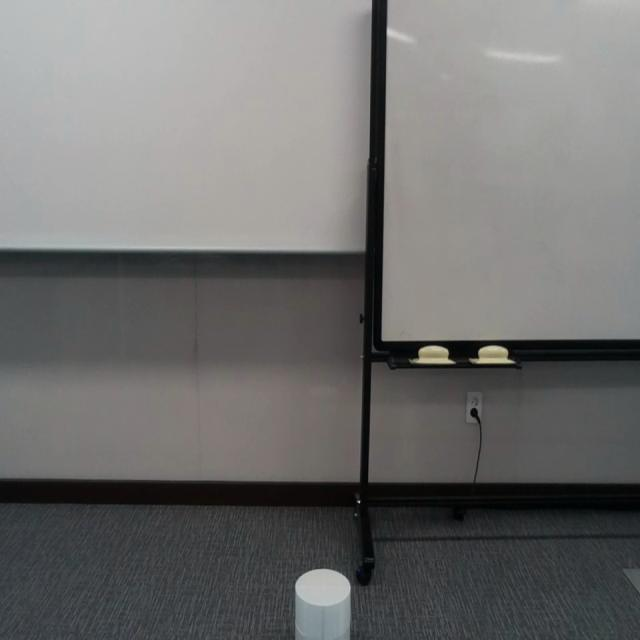cylinder: (295, 568, 352, 640)
